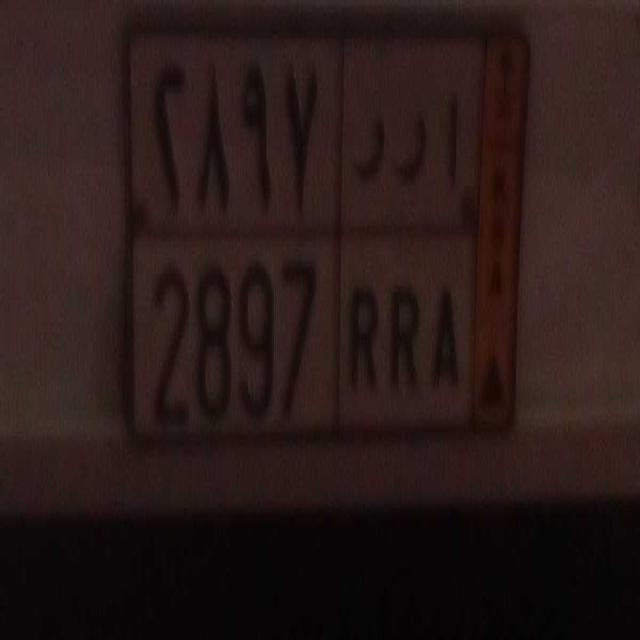license_plate: (135, 226, 477, 446)
